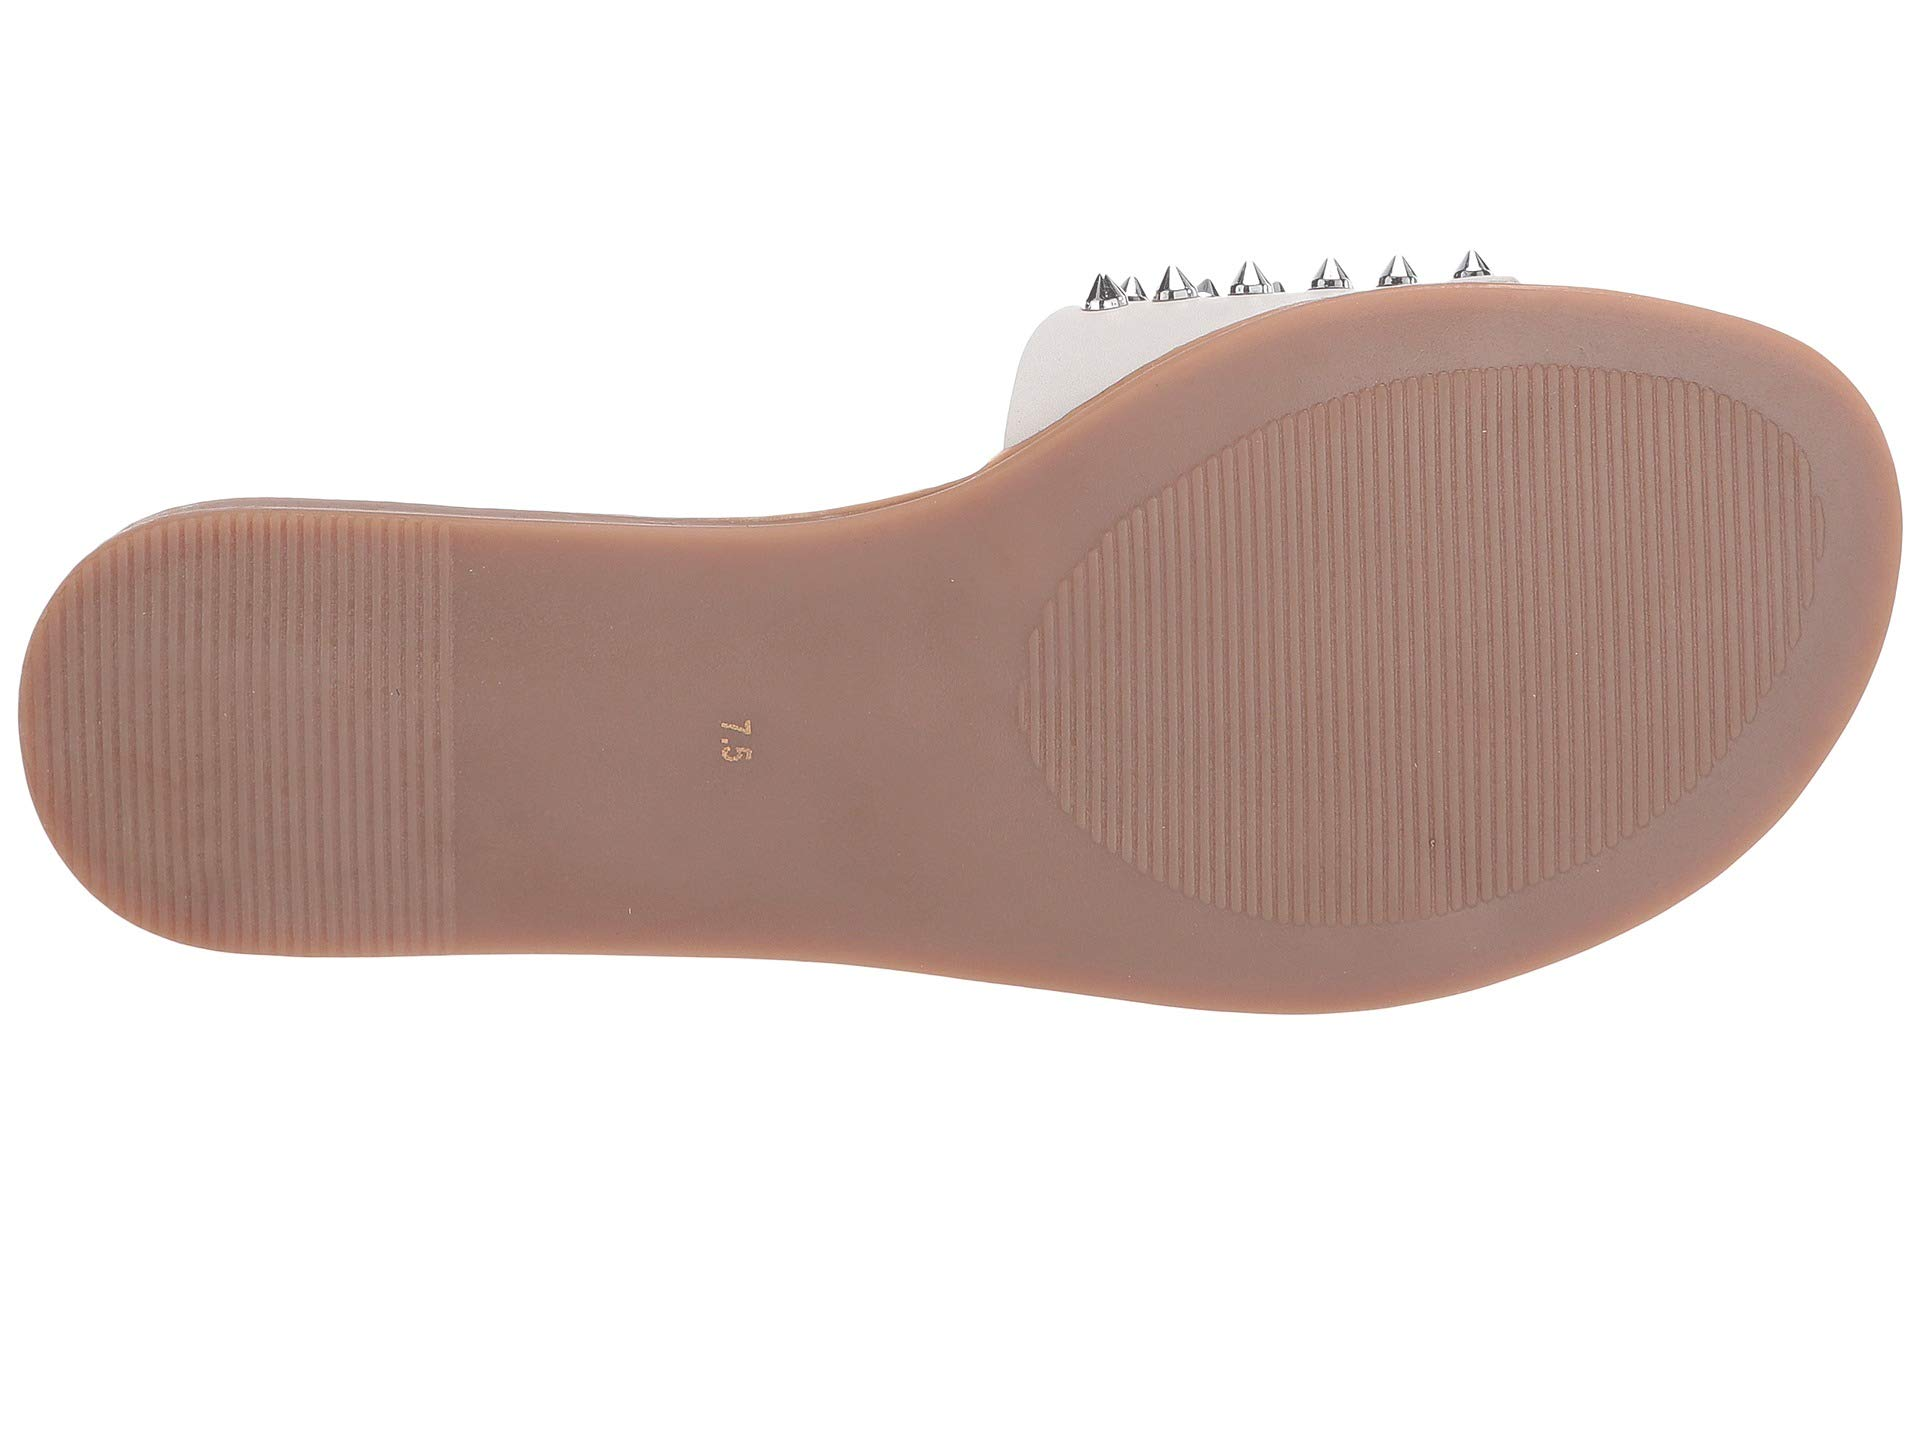line: (1234, 458, 1596, 762)
text: (646, 646, 866, 871)
